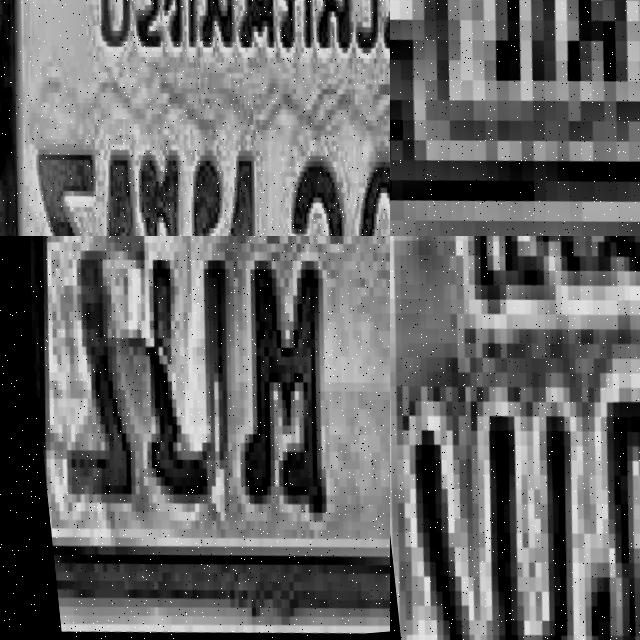license-plate: (0, 236, 390, 640), (390, 236, 640, 640), (0, 0, 390, 236), (390, 0, 640, 232)
